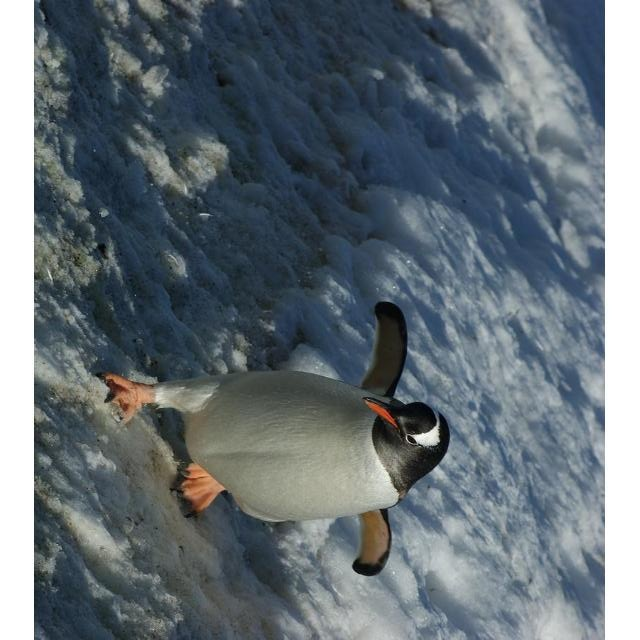penguin: (94, 303, 449, 576)
